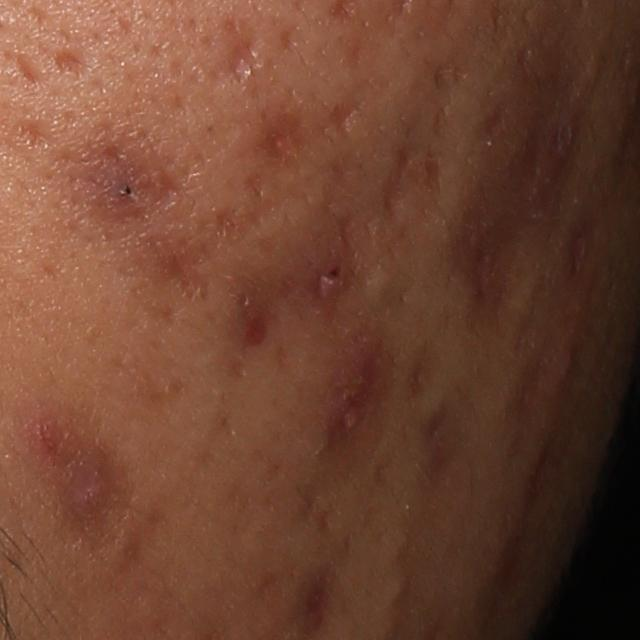atrophic_scar: (447, 192, 539, 334), (504, 68, 579, 230), (229, 287, 285, 370), (420, 402, 463, 508), (153, 250, 208, 302), (227, 34, 271, 92), (383, 150, 409, 238), (75, 123, 138, 158), (8, 115, 59, 156), (329, 93, 367, 147), (50, 47, 92, 86), (14, 52, 43, 89)
comedo: (386, 573, 410, 607)
